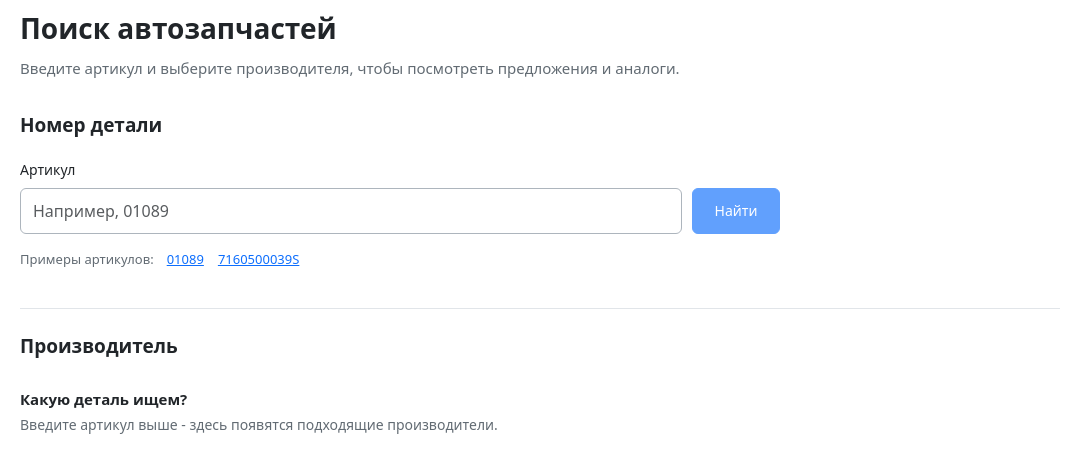
Test: подбор запчасти › объясняет отсутствие результатов и не переходит ко второму этапу
Type "not-found" into the field labelled "Артикул". click: (351, 211)
box: x1=20 y1=188 x2=682 y2=234
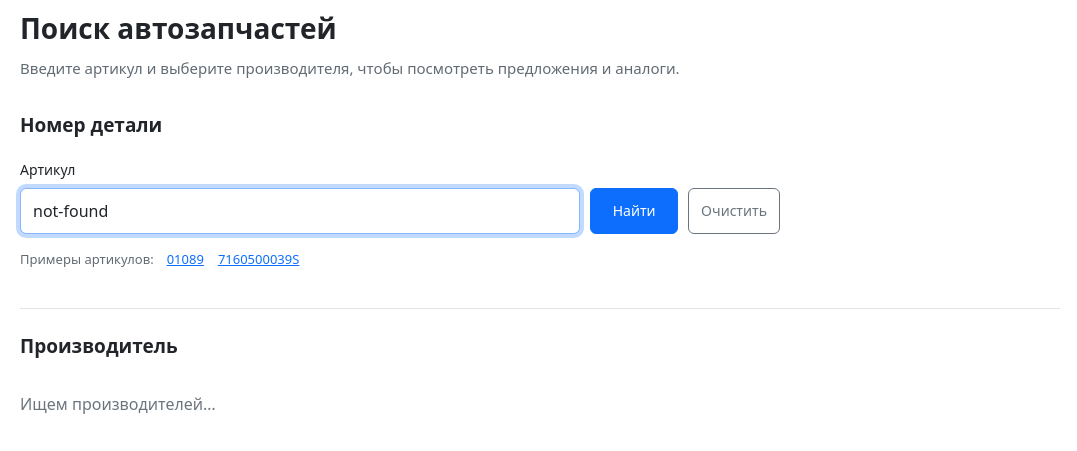
Click the button "Найти". click: click(634, 211)
box: x1=590 y1=188 x2=678 y2=234
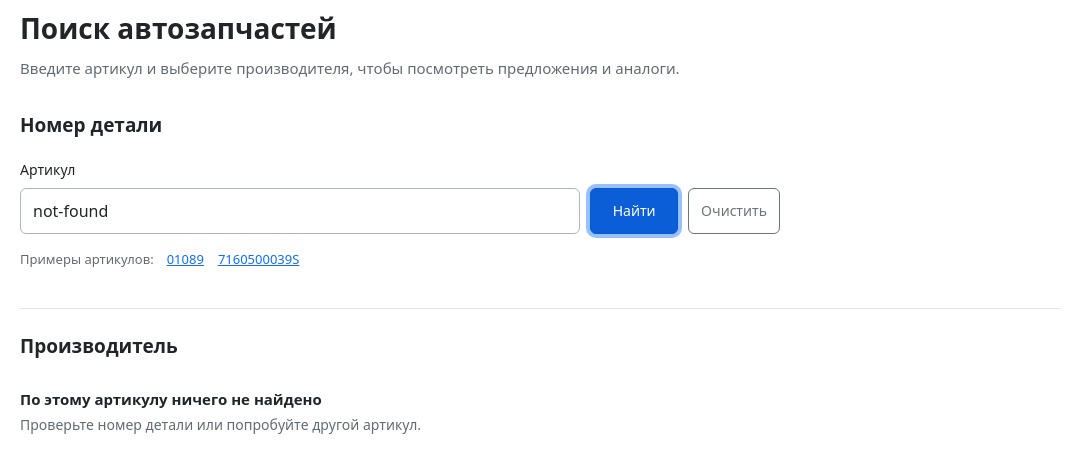
Result: the heading "По этому артикулу ничего не найдено" is shown at x1=20 y1=389 x2=322 y2=409
Result: the text "Проверьте номер детали или попробуйте другой артикул." is shown at x1=20 y1=415 x2=421 y2=434
